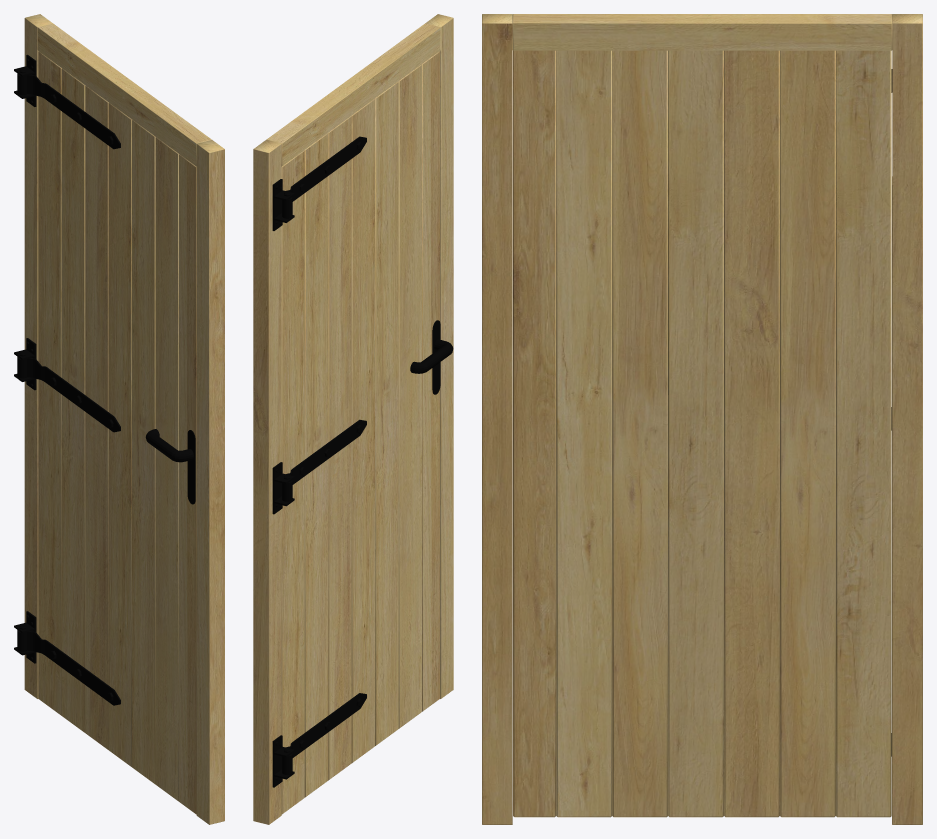
File: door_dichte_deur.glb
3 views of the same model, side by side, from view 1: azimuth 30°, elevation 25°; view 2: azimuth 150°, elevation 25°; view 3: azimuth 270°, elevation 25° (orthographic). The views are drawn at different scales.
Visible parts, largest first — view 1: door_dichte_deur_wood, door_dichte_deur_hingles; view 2: door_dichte_deur_wood, door_dichte_deur_hingles; view 3: door_dichte_deur_wood.
Boxes of the visible parts, left/top/right/bottom form: door_dichte_deur_wood: left=24, top=14, right=224, bottom=824; door_dichte_deur_hingles: left=14, top=54, right=195, bottom=705; door_dichte_deur_wood: left=253, top=14, right=453, bottom=824; door_dichte_deur_hingles: left=272, top=136, right=453, bottom=787; door_dichte_deur_wood: left=482, top=14, right=922, bottom=824.
Bounding box in the file's own units: 0.108 × 2.01 × 1.
Materials: 2 (1 with a texture image).
